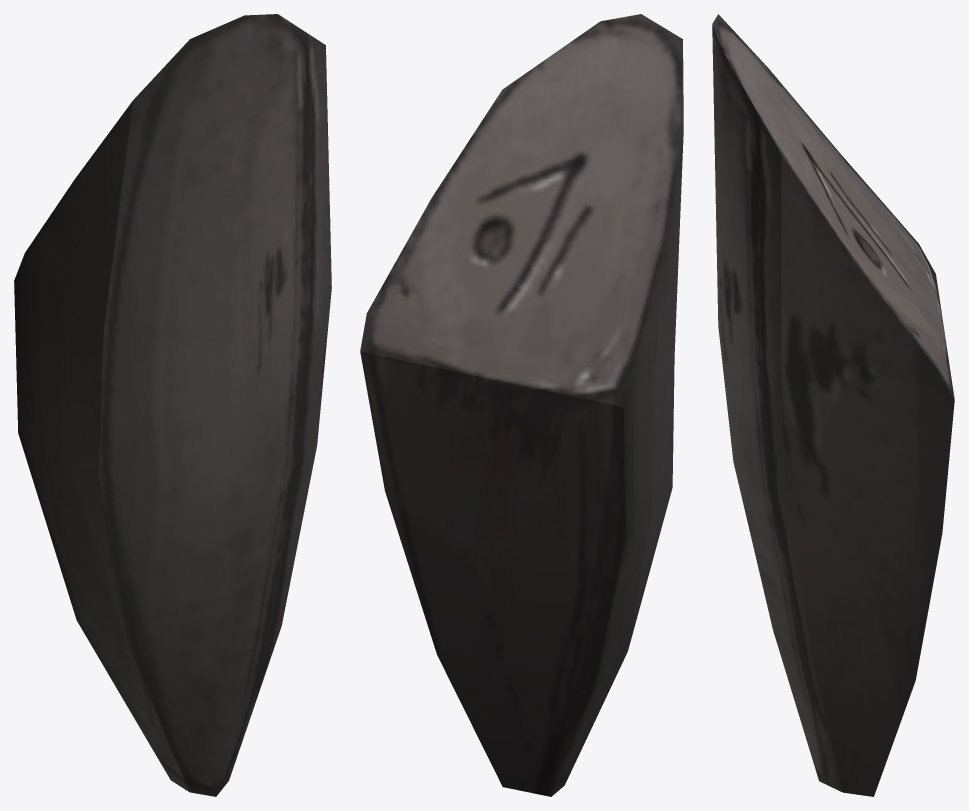
File: rock_medium_02.fbx
3 views of the same model, side by side, from view 1: azimuth 30°, elevation 25°; view 2: azimuth 150°, elevation 25°; view 3: azimuth 270°, elevation 25° (orthographic). The views are drawn at different scales.
Visible parts, largest first — view 1: rock_medium_02; view 2: rock_medium_02; view 3: rock_medium_02.
Boxes of the visible parts, x1,y1,x2,y2 form: rock_medium_02: (14,14,331,796); rock_medium_02: (360,14,683,796); rock_medium_02: (712,14,954,796).
Bounding box in the file's own units: 98.83 × 269 × 79.5.
Materials: 1 (1 with a texture image).
